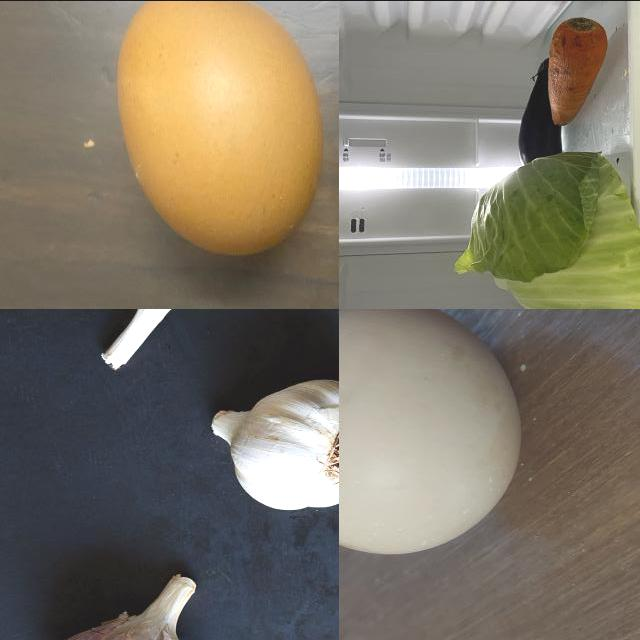cabbage: (456, 142, 640, 309)
carrot: (543, 17, 614, 125)
egg: (107, 1, 325, 261), (340, 309, 530, 560)
eggplant: (515, 59, 571, 175)
garlic: (209, 375, 340, 513), (32, 572, 213, 640), (100, 309, 281, 367)
